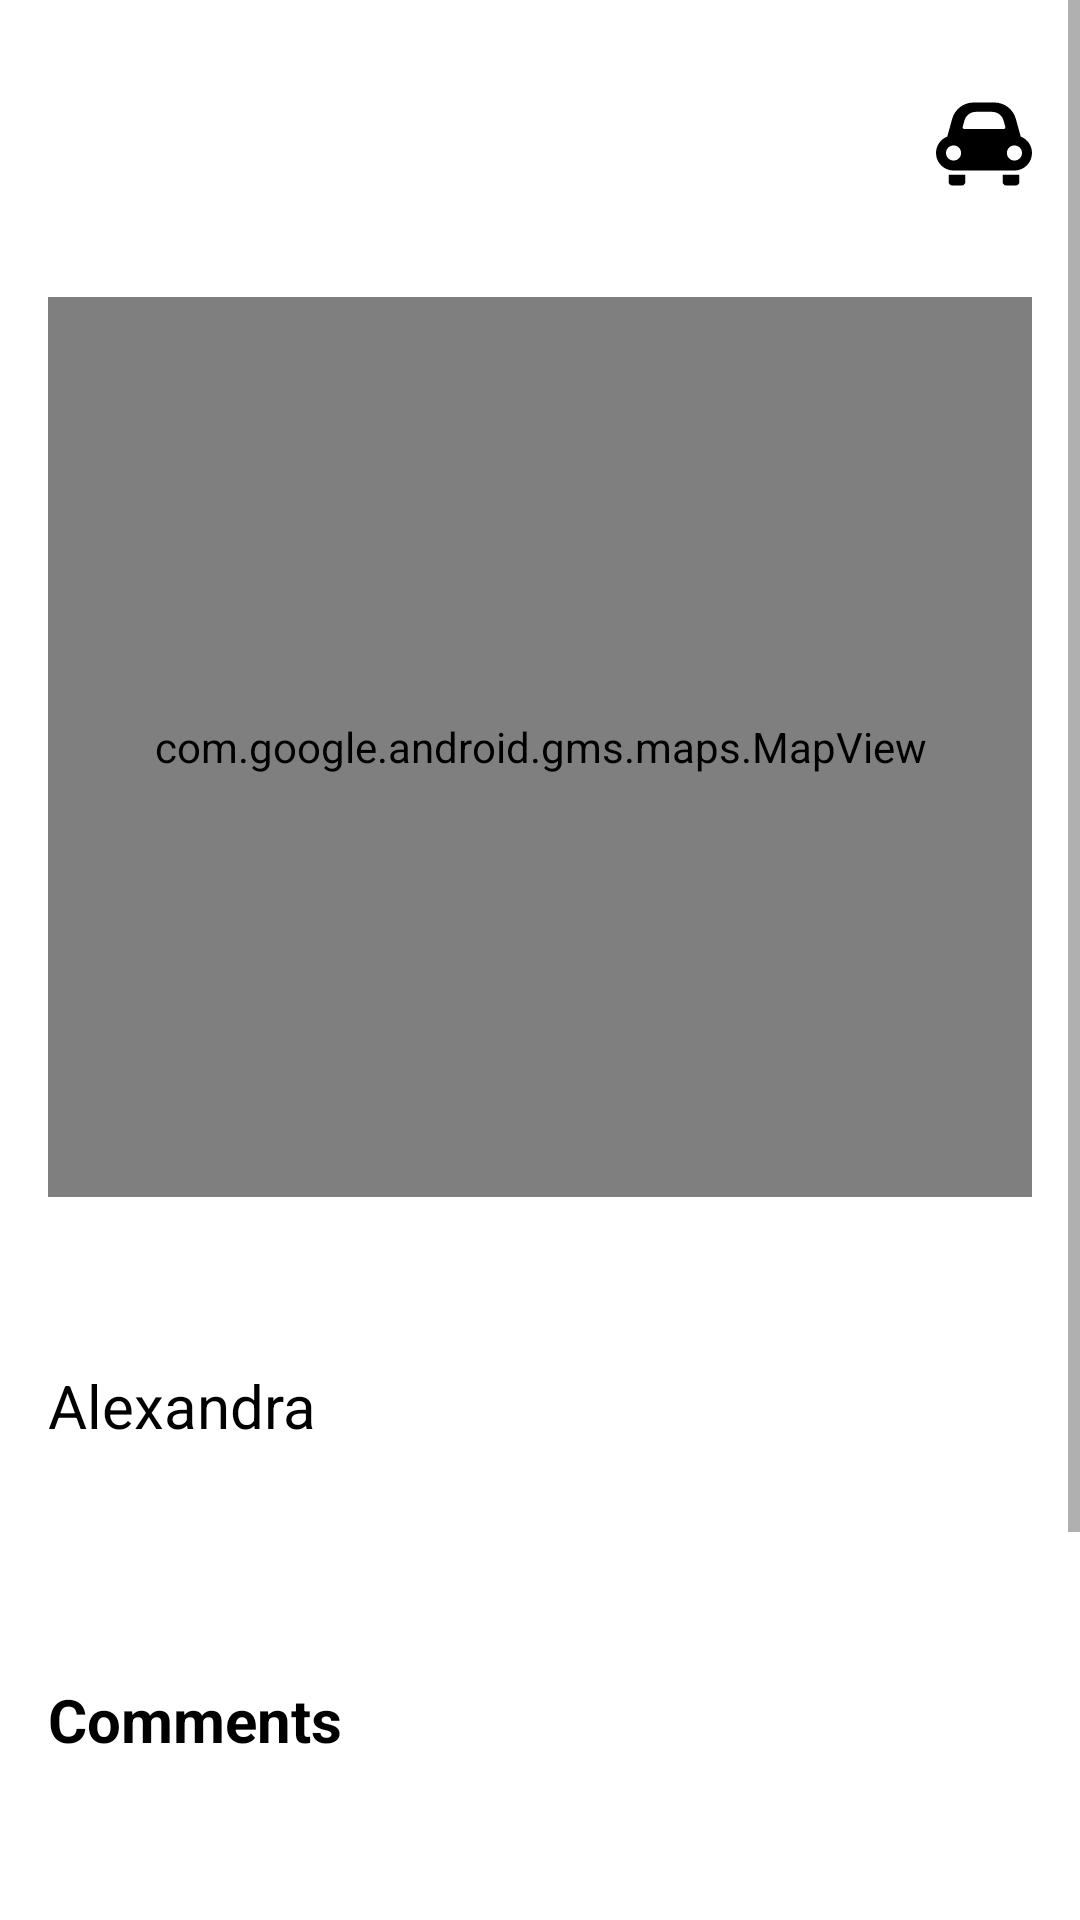

Screen size 1080 x 1920. Icon name, then its box in pixels as (x1, y1, x2, y2):
car: (936, 102, 1032, 186)
